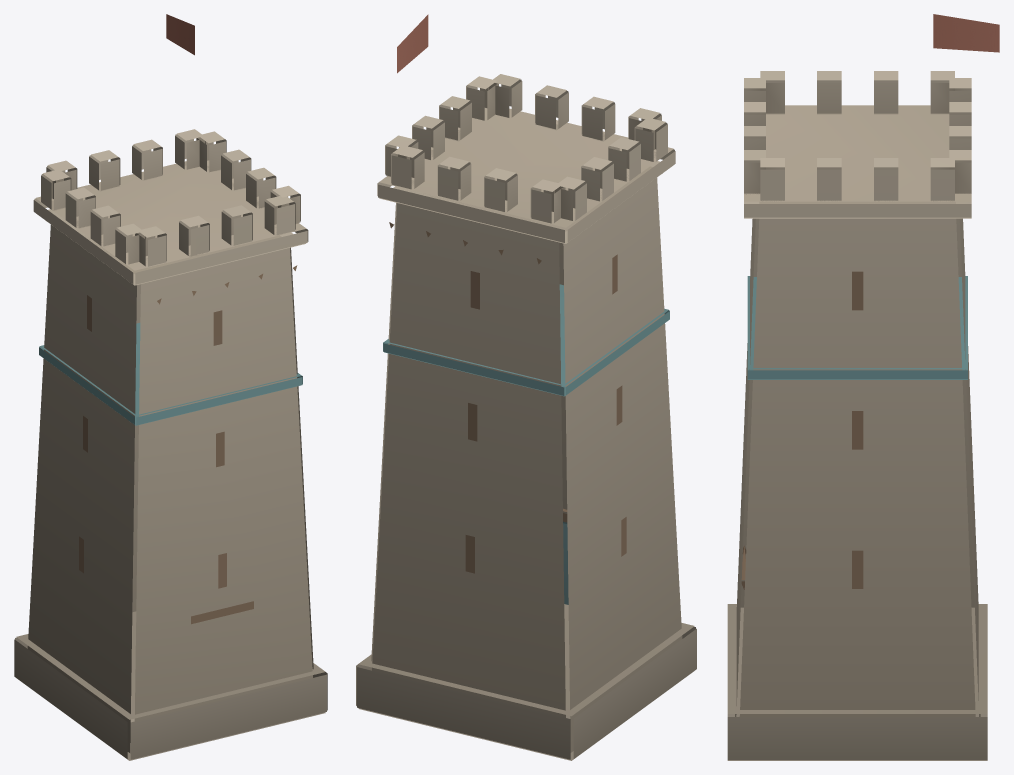
The model's file is watchtower.lod.glb.
The picture shows the model from 3 angles, left to right: view 1: azimuth 30°, elevation 25°; view 2: azimuth 150°, elevation 25°; view 3: azimuth 270°, elevation 25°; orthographic projection. The views are drawn at different scales.
Visible parts, largest first — view 1: watchtower; view 2: watchtower; view 3: watchtower.
Part boxes in pixels (left/top/right/bottom): watchtower: left=14, top=14, right=327, bottom=760; watchtower: left=356, top=14, right=696, bottom=760; watchtower: left=727, top=14, right=999, bottom=760.
Size of the model in its own units: 5.6 by 16.9 by 5.8.
